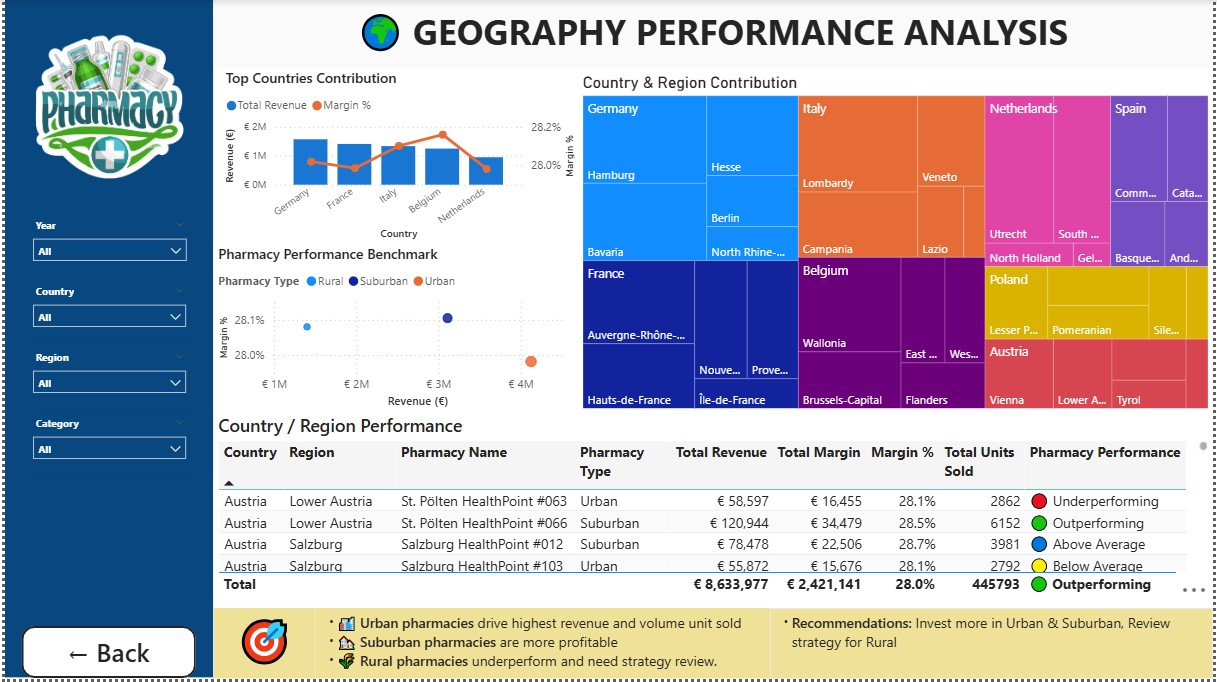

Layout of this report page (visuals, bound fields, positions):
{"tool":"powerbi","page":{"name":"Geography","canvas":[1280,720],"ordinal":1},"visuals":[{"type":"textbox","box":[10,199,220,150],"z":0},{"type":"textbox","box":[0,0,220.7,719.6],"z":1000},{"type":"image","box":[0,0,220.3,239],"z":2000},{"type":"textbox","box":[220.4,3.4,1059.1,70],"z":3000},{"type":"lineStackedColumnComboChart","title":"Top Countries Contribution","fields":{"Category":["Sheet1.Country"],"Y2":["_Measures.Margin %"],"Y":["_Measures.Total Revenue"]},"box":[228.8,72.9,379.6,186.4],"z":4000},{"type":"tableEx","title":"Country / Region Performance","fields":{"Values":["Sheet1.Country","Sheet1.Region","Sheet1.PharmacyName","Sheet1.Pharmacy Type","_Measures.Total Revenue","_Measures.Total Margin","_Measures.Margin %","_Measures.Total Units Sold","_Measures.Pharmacy Performance"]},"box":[220.3,438.9,1059.1,196.6],"z":5000},{"type":"slicer","fields":{"Values":["Calendar.Year"]},"box":[16.1,223.8,190,70],"z":6000},{"type":"actionButton","title":"Overview","box":[17.6,665,185,55],"z":7000},{"type":"slicer","fields":{"Values":["Sheet1.Country"]},"box":[16.3,293.8,189.6,70],"z":8000},{"type":"slicer","fields":{"Values":["Sheet1.Category"]},"box":[16.3,433.9,189.6,70],"z":9000},{"type":"slicer","fields":{"Values":["Sheet1.Region"]},"box":[16.3,363.9,189.6,70],"z":10000},{"type":"scatterChart","title":"Pharmacy Performance Benchmark","fields":{"X":["_Measures.Total Revenue"],"Y":["_Measures.Margin %"],"Size":["Sum(Sheet1.Units Sold)"],"Series":["Sheet1.Pharmacy Type"]},"box":[220.3,259.3,388.1,179.6],"z":11000},{"type":"textbox","box":[329.3,645.8,482,74.8],"z":12000},{"type":"textbox","box":[221.1,645.2,108.2,74.8],"z":13000},{"type":"textbox","box":[811.2,645.8,469.2,74.8],"z":14000},{"type":"treemap","title":"Country & Region Contribution","fields":{"Group":["Sheet1.Country","Sheet1.Pharmacy Name"],"Details":["Sheet1.Region"],"Values":["_Measures.Total Revenue"]},"box":[608.4,78,672.8,361],"z":15000}]}

Visuals, with their boxes in screenshot pixels (x1, y1, x2, y2), scaled from the page's 1280x720 canvas onto the 1217x682 screenshot:
textbox: 10 188 219 331
textbox: 0 0 210 681
image: 0 0 209 226
textbox: 210 3 1216 70
"Top Countries Contribution" lineStackedColumnComboChart: 218 69 578 246
"Country / Region Performance" tableEx: 209 416 1216 602
slicer - Calendar.Year: 15 212 196 278
"Overview" actionButton: 17 630 193 681
slicer - Sheet1.Country: 15 278 196 345
slicer - Sheet1.Category: 15 411 196 477
slicer - Sheet1.Region: 15 345 196 411
"Pharmacy Performance Benchmark" scatterChart: 209 246 578 416
textbox: 313 612 771 681
textbox: 210 611 313 681
textbox: 771 612 1216 681
"Country & Region Contribution" treemap: 578 74 1216 416
